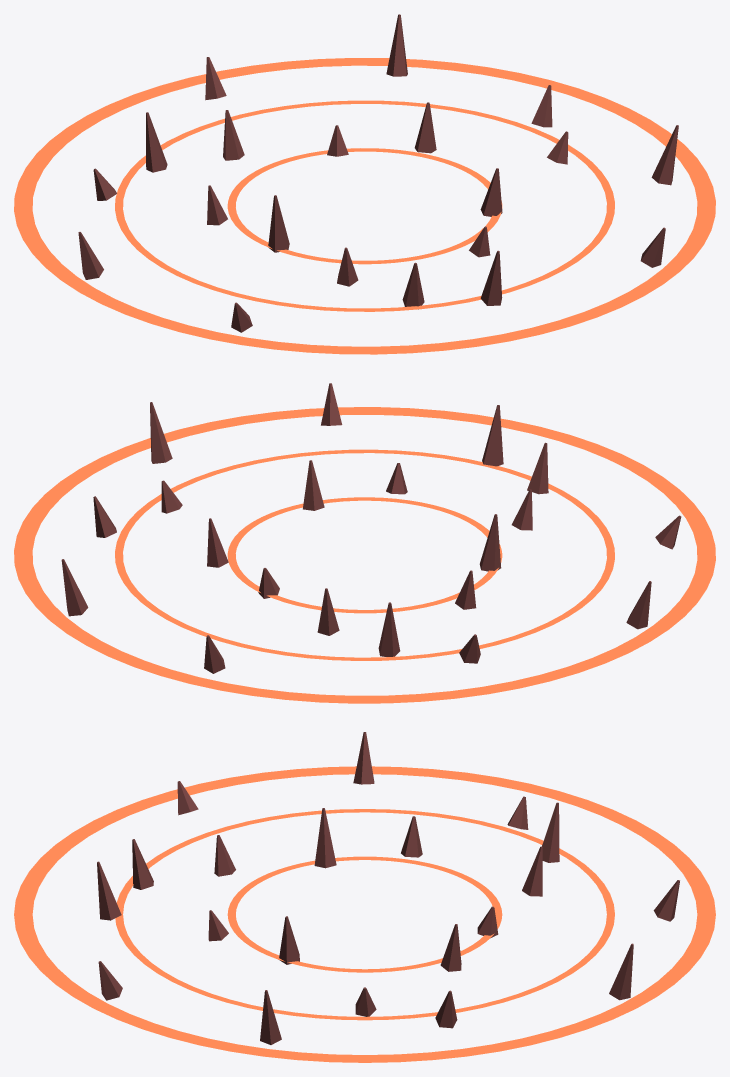
The model's file is FX_BOSS_AltarSlam.glb.
3 renders of one model, top to bottom at view 1: azimuth 30°, elevation 25°; view 2: azimuth 150°, elevation 25°; view 3: azimuth 270°, elevation 25°, orthographic.
Parts seen in each view (by area): view 1: FX_BOSS_AltarSlam_Release, FX_BOSS_AltarSlam_Debris; view 2: FX_BOSS_AltarSlam_Release, FX_BOSS_AltarSlam_Debris; view 3: FX_BOSS_AltarSlam_Release, FX_BOSS_AltarSlam_Debris.
Boxes of the visible parts, left/top/right/bottom form: FX_BOSS_AltarSlam_Release: left=14, top=58, right=715, bottom=354; FX_BOSS_AltarSlam_Debris: left=78, top=14, right=678, bottom=332; FX_BOSS_AltarSlam_Release: left=14, top=407, right=715, bottom=703; FX_BOSS_AltarSlam_Debris: left=61, top=383, right=681, bottom=673; FX_BOSS_AltarSlam_Release: left=14, top=766, right=715, bottom=1062; FX_BOSS_AltarSlam_Debris: left=97, top=732, right=679, bottom=1044.
Size of what is drawn, in the model's own units: 0.00904 by 0.000831 by 0.00904.
